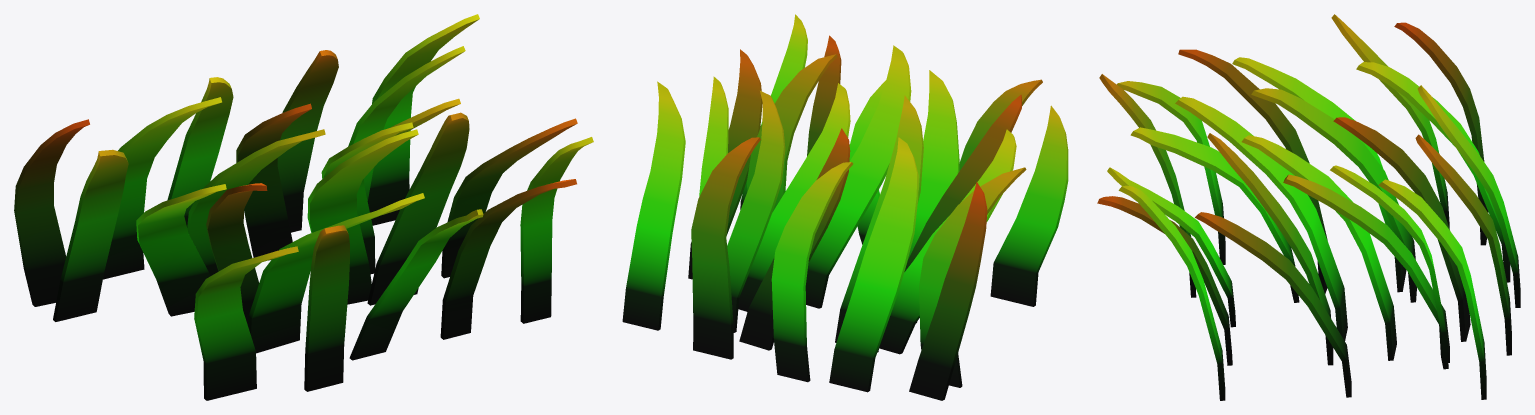
Rendered from long_grass.fbx.
3 views of the same model, side by side, from view 1: azimuth 30°, elevation 25°; view 2: azimuth 150°, elevation 25°; view 3: azimuth 270°, elevation 25° (orthographic). The views are drawn at different scales.
Visible parts, largest first — view 1: Long_Grass; view 2: Long_Grass; view 3: Long_Grass.
Boxes of the visible parts, x1=… form: Long_Grass: x1=14, y1=14, x2=593, y2=400; Long_Grass: x1=622, y1=14, x2=1068, y2=400; Long_Grass: x1=1097, y1=14, x2=1520, y2=400.
Size of the model in its own units: 218 by 121 by 203.
